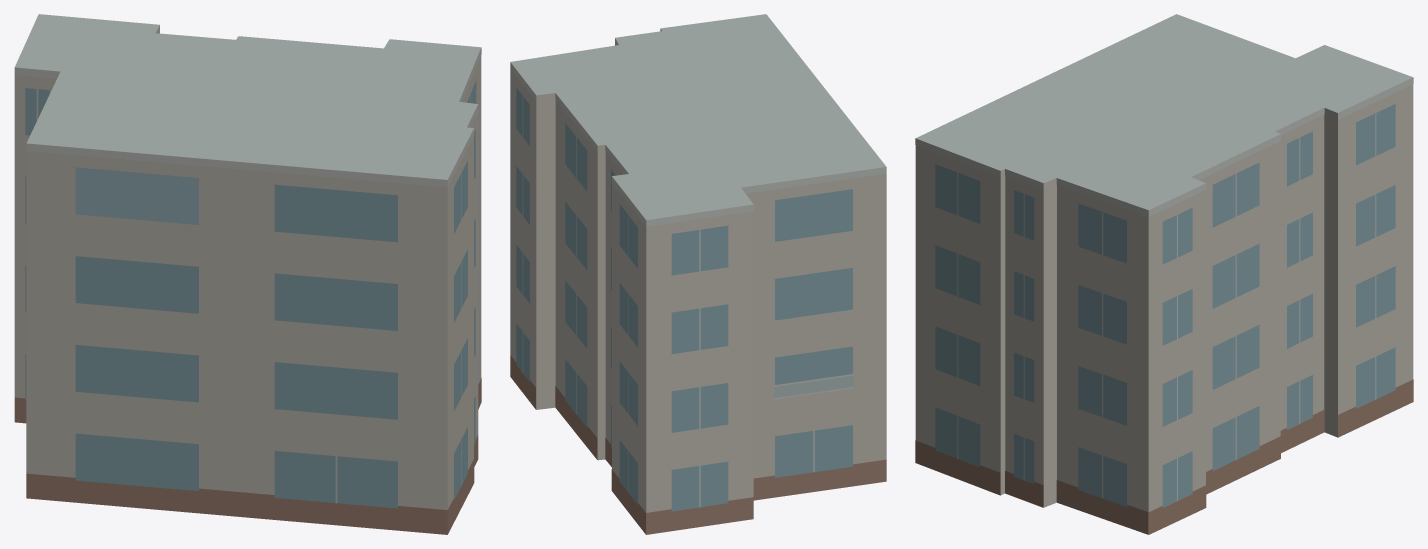
The model's file is survey-upis-32878071.glb.
The picture shows the model from 3 angles, left to right: view 1: azimuth 30°, elevation 25°; view 2: azimuth 150°, elevation 25°; view 3: azimuth 270°, elevation 25°; orthographic projection. The views are drawn at different scales.
Parts seen in each view (by area): view 1: survey-upis-32878071.tmp; view 2: survey-upis-32878071.tmp; view 3: survey-upis-32878071.tmp.
Boxes of the visible parts, x1,y1,x2,y2 form: survey-upis-32878071.tmp: (14, 14, 481, 534); survey-upis-32878071.tmp: (510, 14, 886, 534); survey-upis-32878071.tmp: (915, 14, 1413, 534).
Size of the model in its own units: 15.05 by 11.6 by 16.14.
